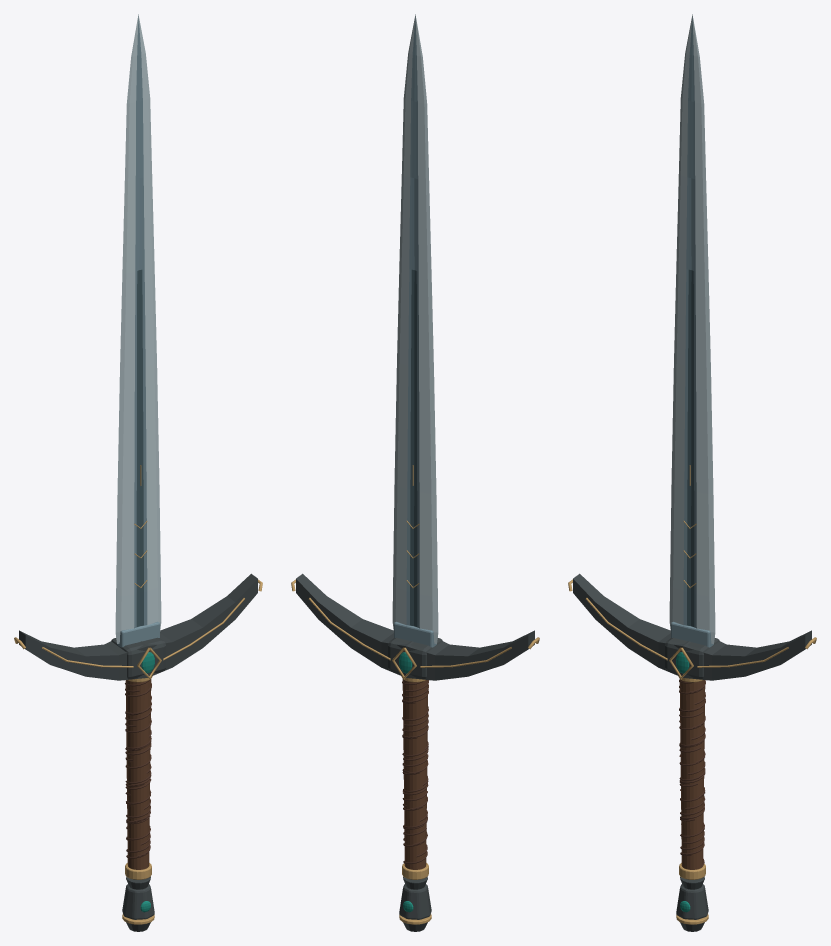
The model's file is ashen_claymore-1 (1).glb.
3 renders of one model, left to right at view 1: azimuth 30°, elevation 25°; view 2: azimuth 150°, elevation 25°; view 3: azimuth 330°, elevation 25°, orthographic.
Visible parts, largest first — view 1: Ashen Claymore | single joined game mesh; view 2: Ashen Claymore | single joined game mesh; view 3: Ashen Claymore | single joined game mesh.
Boxes of the visible parts, x1,y1,x2,y2 form: Ashen Claymore | single joined game mesh: [14, 14, 262, 931]; Ashen Claymore | single joined game mesh: [291, 14, 539, 931]; Ashen Claymore | single joined game mesh: [568, 14, 816, 931].
Bounding box in the file's own units: 0.4995 × 1.79 × 0.083.
